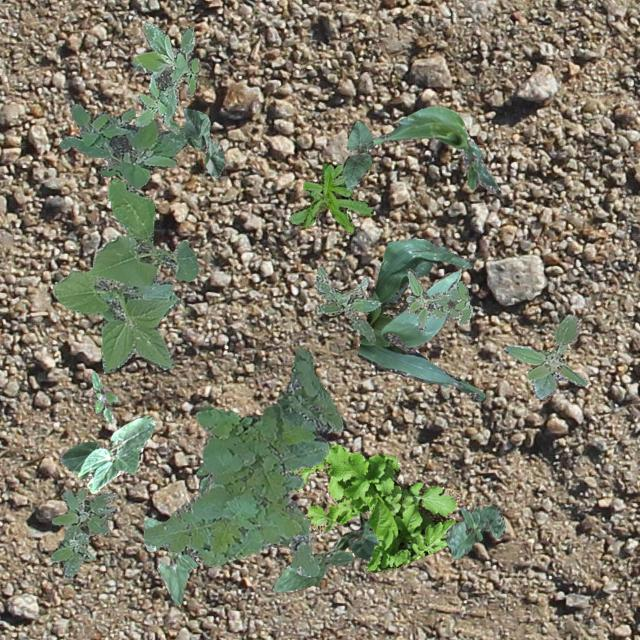crop: (356, 238, 484, 400), (372, 106, 499, 194), (272, 520, 381, 592), (59, 414, 154, 492), (142, 516, 198, 604), (444, 504, 504, 558), (182, 106, 224, 176), (342, 120, 372, 190)
weed: (142, 347, 342, 576), (51, 176, 198, 372), (284, 442, 458, 572), (58, 102, 186, 188), (130, 22, 198, 134), (502, 314, 586, 398), (50, 486, 116, 578), (288, 160, 372, 232), (312, 266, 380, 342), (404, 268, 472, 330), (88, 370, 116, 422), (194, 464, 208, 494)
